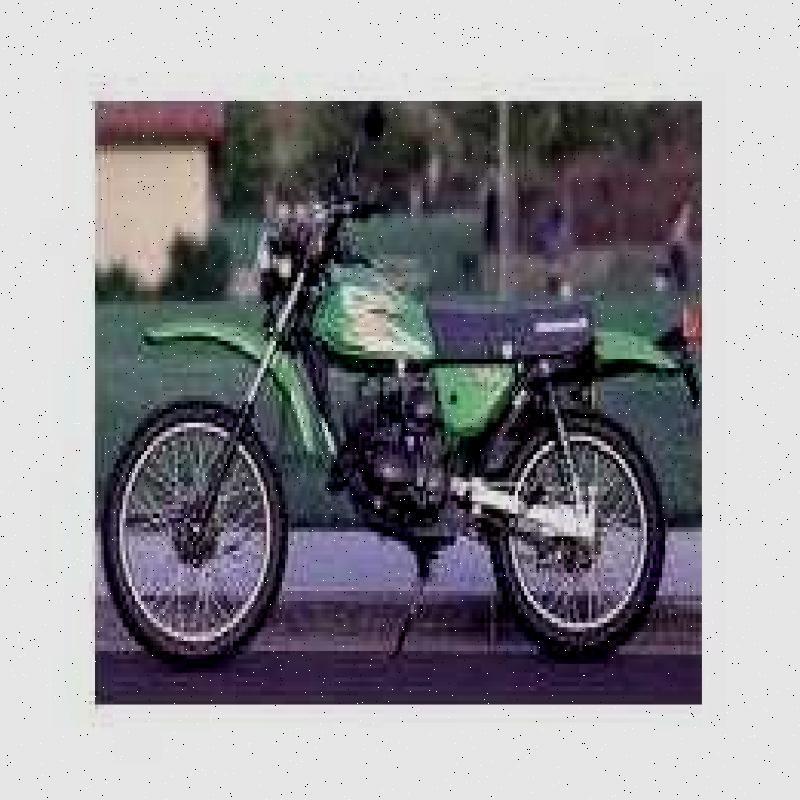bike: (112, 105, 658, 653)
